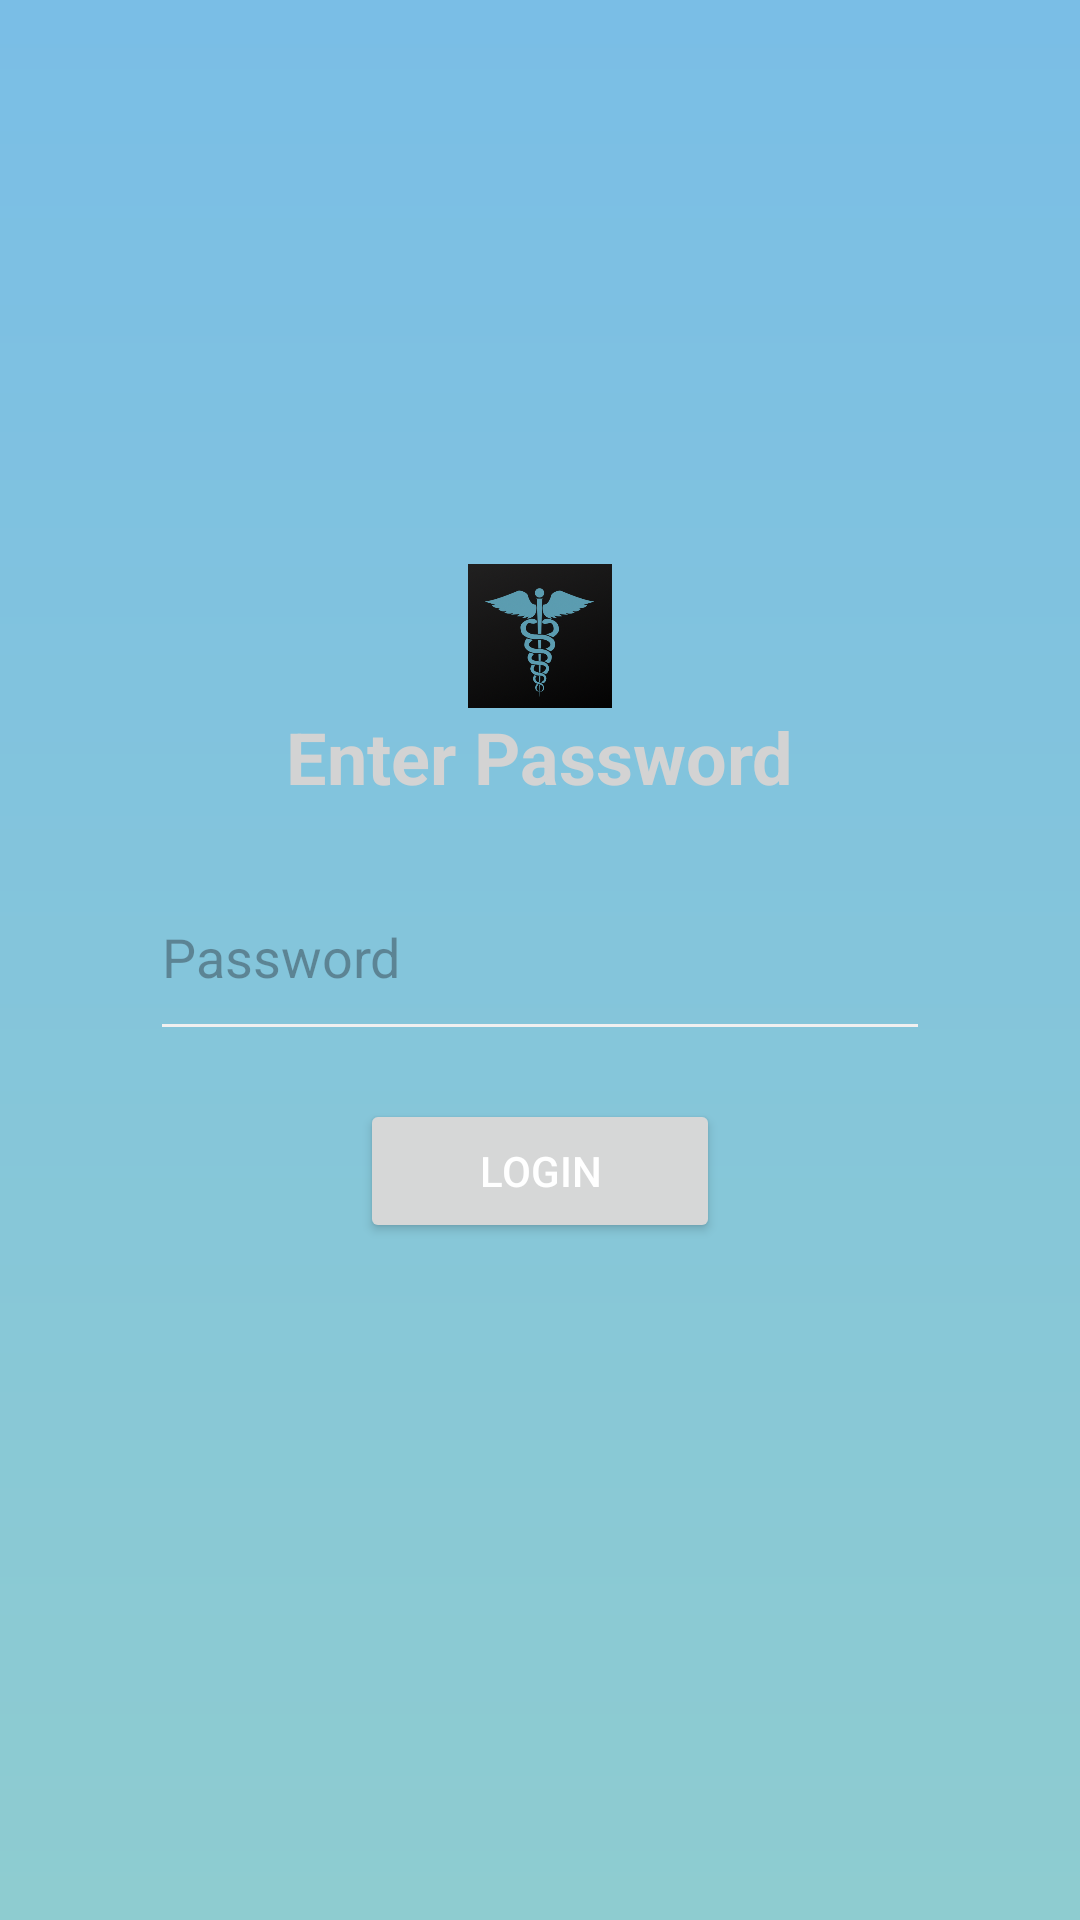

Screen size 1080px x 1920px. Icon name, then its center in pixels as [x,y]:
healthpopup: [540,636]
